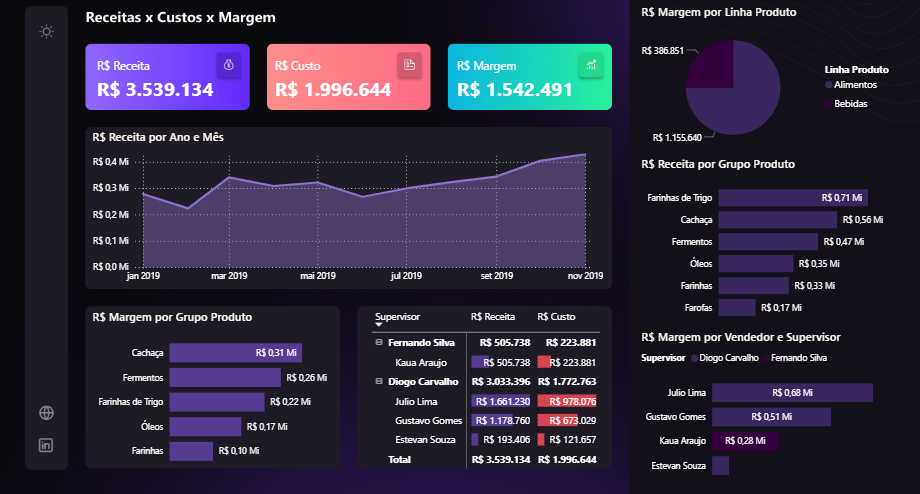

The page's visual inventory and layout, read from the dashboard file:
{"tool":"powerbi","page":{"name":"Página 1","canvas":[1280,720],"ordinal":0},"visuals":[{"type":"cardVisual","fields":{"Data":["Vendas.R$ Receita","Vendas.R$ Custo","Vendas.R$ Margem"]},"box":[106.8,71.2,767.1,137],"z":0},{"type":"pivotTable","fields":{"Rows":["Vendas.Supervisor","Vendas.Vendedor"],"Values":["Vendas.R$ Receita","Vendas.R$ Custo"]},"box":[512.3,449.3,331.5,249.3],"z":1000},{"type":"clusteredBarChart","fields":{"Category":["Produto.Grupo Produto"],"Y":["Vendas.R$ Receita"]},"box":[887.5,245.8,369.4,240.3],"z":2000},{"type":"areaChart","fields":{"Category":["Vendas.Data.Variation.Hierarquia de datas.Ano","Vendas.Data.Variation.Hierarquia de datas.Mês","Vendas.Data.Variation.Hierarquia de datas.Dia"],"Y":["Vendas.R$ Receita"]},"box":[124.7,208.2,719.2,221.9],"z":3000},{"type":"pieChart","fields":{"Category":["Produto.Linha Produto"],"Y":["Vendas.R$ Margem"]},"box":[887.5,34.7,369.4,211.1],"z":4000},{"type":"barChart","fields":{"Category":["Produto.Grupo Produto"],"Y":["Vendas.R$ Margem"]},"box":[125,458.3,350,230.6],"z":5000},{"type":"barChart","fields":{"Category":["Vendas.Vendedor"],"Series":["Vendas.Supervisor"],"Y":["Vendas.R$ Margem"]},"box":[887.5,486.1,369.4,222.2],"z":6000}]}

Visuals, with their boxes on the page's 1280x720 design canvas (x1, y1, x2, y2). These are canvas units, not pixel positions in the 920x494 screenshot, which may show the page scaled, cropped or inside an application window:
cardVisual - Vendas.R$ Receita x Vendas.R$ Custo: [107,71,874,208]
pivotTable - Vendas.Supervisor x Vendas.Vendedor: [512,449,844,699]
clusteredBarChart - Produto.Grupo Produto x Vendas.R$ Receita: [888,246,1257,486]
areaChart - Vendas.Data.Variation.Hierarquia de datas.Ano x Vendas.Data.Variation.Hierarquia de datas.Mês: [125,208,844,430]
pieChart - Produto.Linha Produto x Vendas.R$ Margem: [888,35,1257,246]
barChart - Produto.Grupo Produto x Vendas.R$ Margem: [125,458,475,689]
barChart - Vendas.Vendedor x Vendas.Supervisor: [888,486,1257,708]
